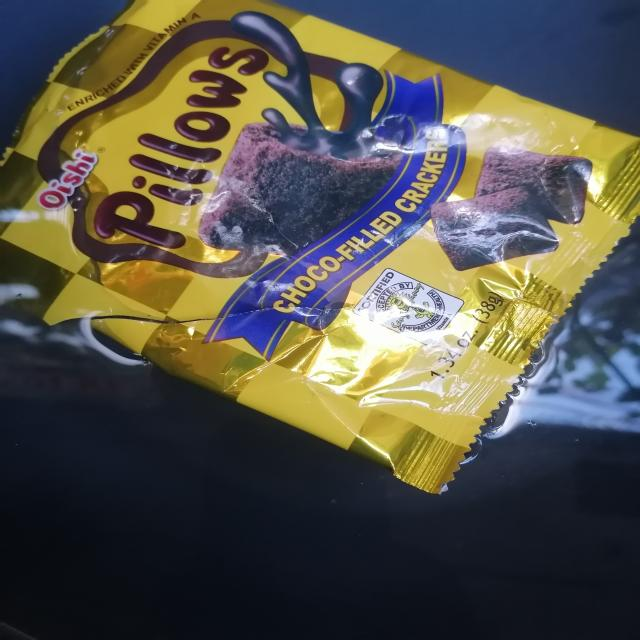Plastic Wrapper: (0, 0, 640, 493)
